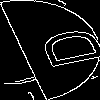D: (25, 25, 100, 73)
